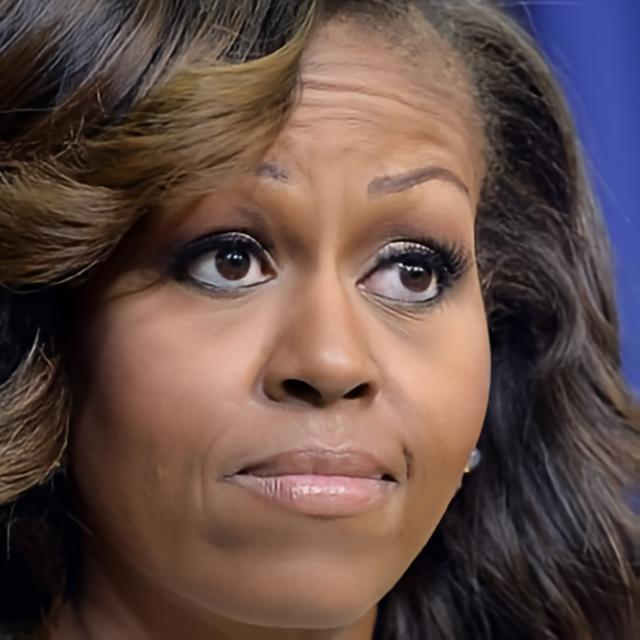surprise: (74, 2, 496, 633)
